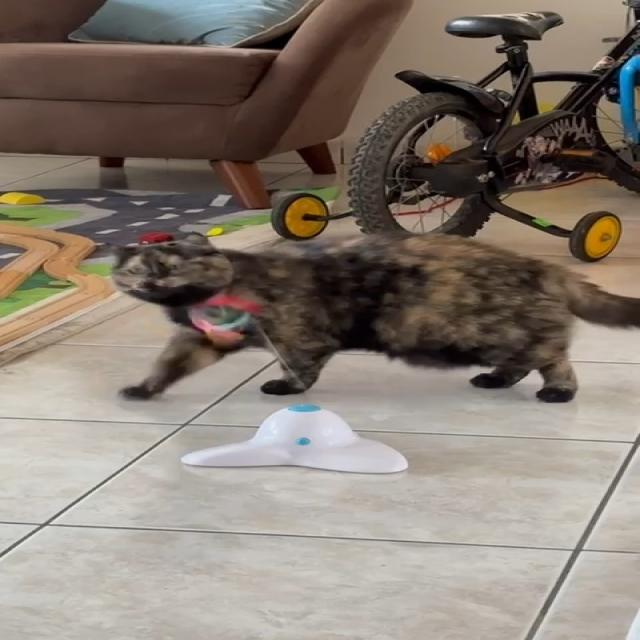authorized: (108, 229, 639, 403)
